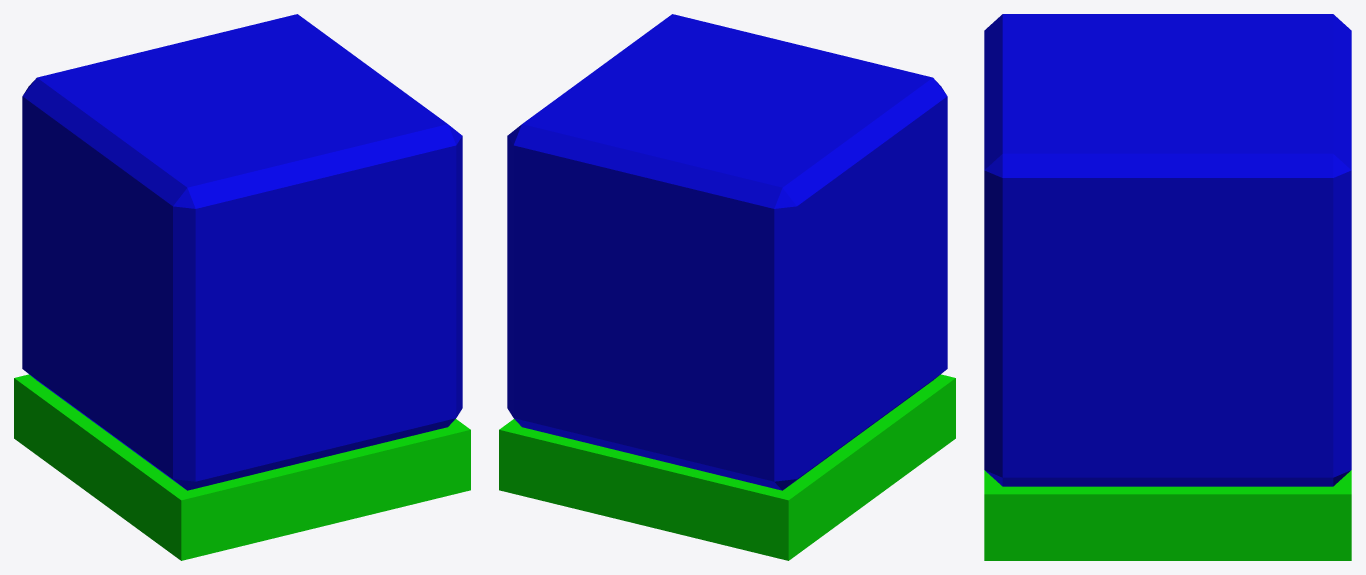
Rendered from Wall.fbx.
The picture shows the model from 3 angles, left to right: view 1: azimuth 30°, elevation 25°; view 2: azimuth 150°, elevation 25°; view 3: azimuth 270°, elevation 25°; orthographic projection. The views are drawn at different scales.
Visible parts, largest first — view 1: pCube2, pCube1; view 2: pCube2, pCube1; view 3: pCube2, pCube1.
Part boxes in pixels (left/top/right/bottom): pCube2: left=22, top=14, right=462, bottom=490; pCube1: left=14, top=374, right=470, bottom=560; pCube2: left=507, top=14, right=947, bottom=490; pCube1: left=499, top=374, right=955, bottom=560; pCube2: left=984, top=14, right=1351, bottom=486; pCube1: left=984, top=470, right=1351, bottom=560.
Size of the model in its own units: 1 by 1.2 by 1.
